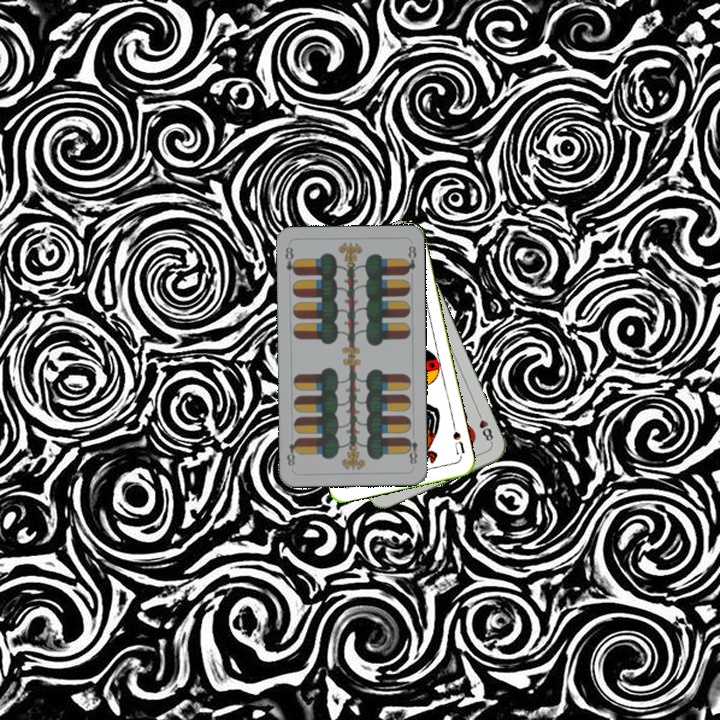E8: (403, 429, 420, 467), (281, 243, 299, 277)
H8: (473, 407, 496, 446)
SU: (449, 420, 467, 457)
